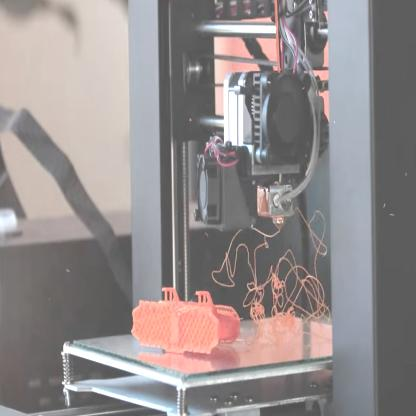fail: (242, 230, 326, 336)
